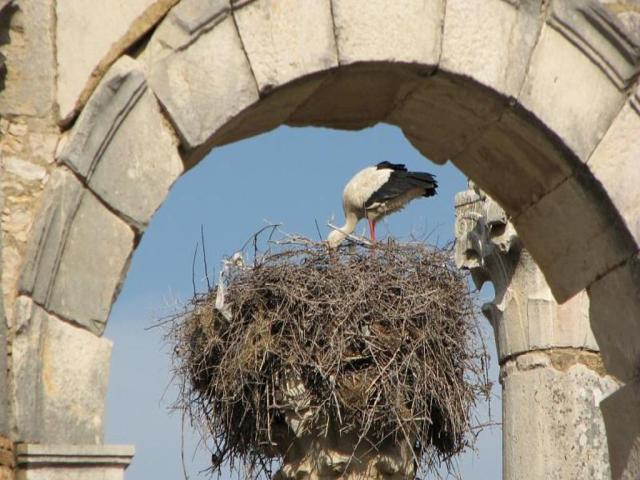Bird: (327, 159, 438, 252)
